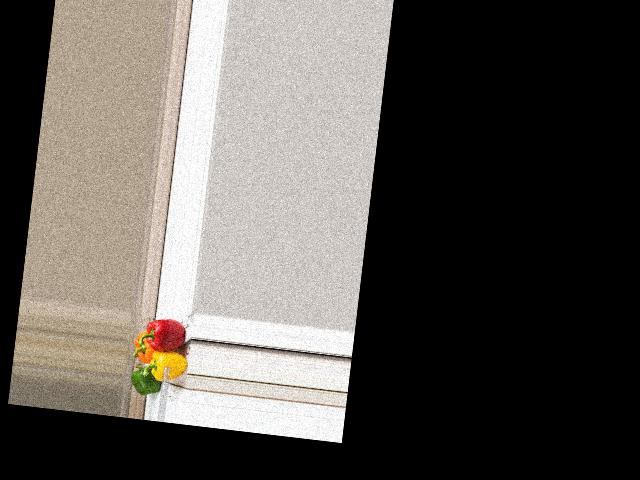bell_pepper: (131, 330, 158, 365)
